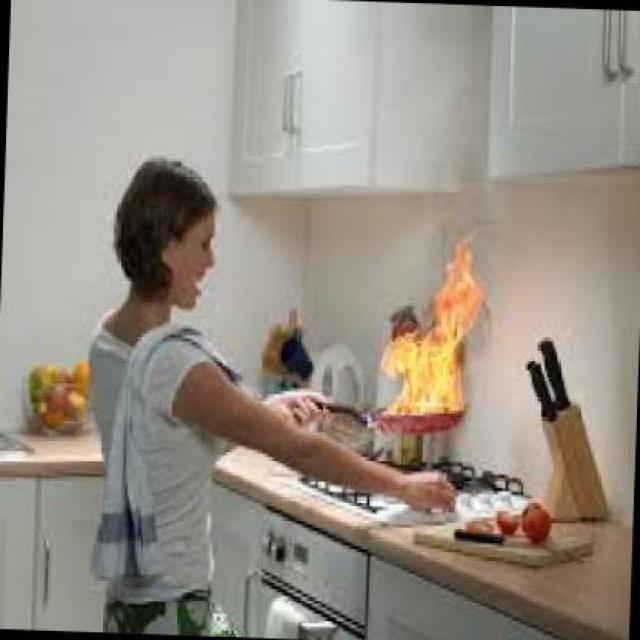Fire: (364, 226, 488, 438)
